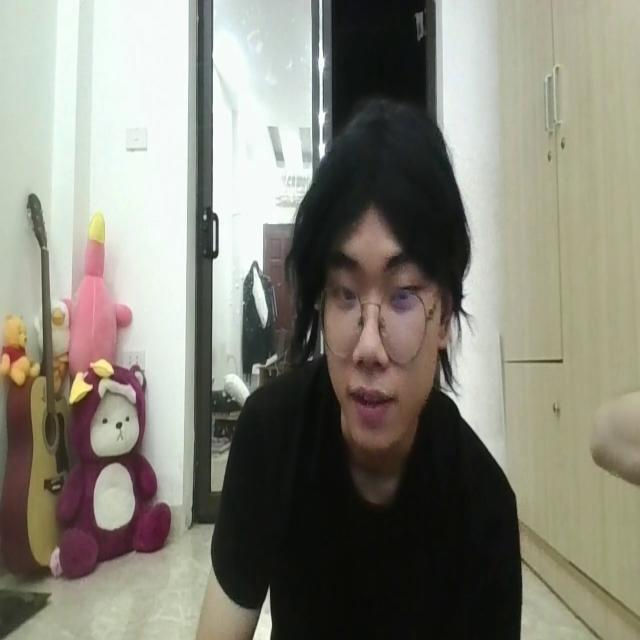student: (188, 86, 522, 640)
